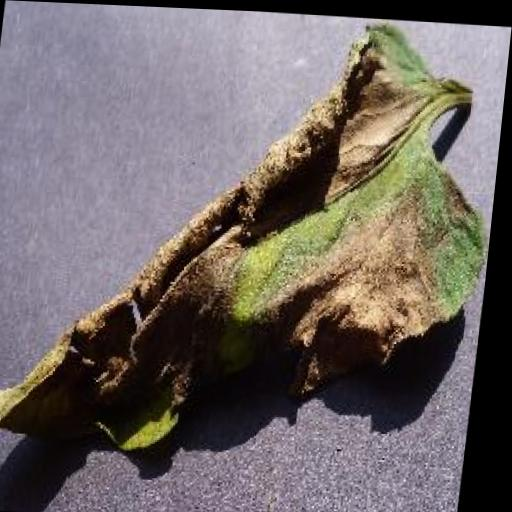Late Blight: (0, 0, 512, 471)
